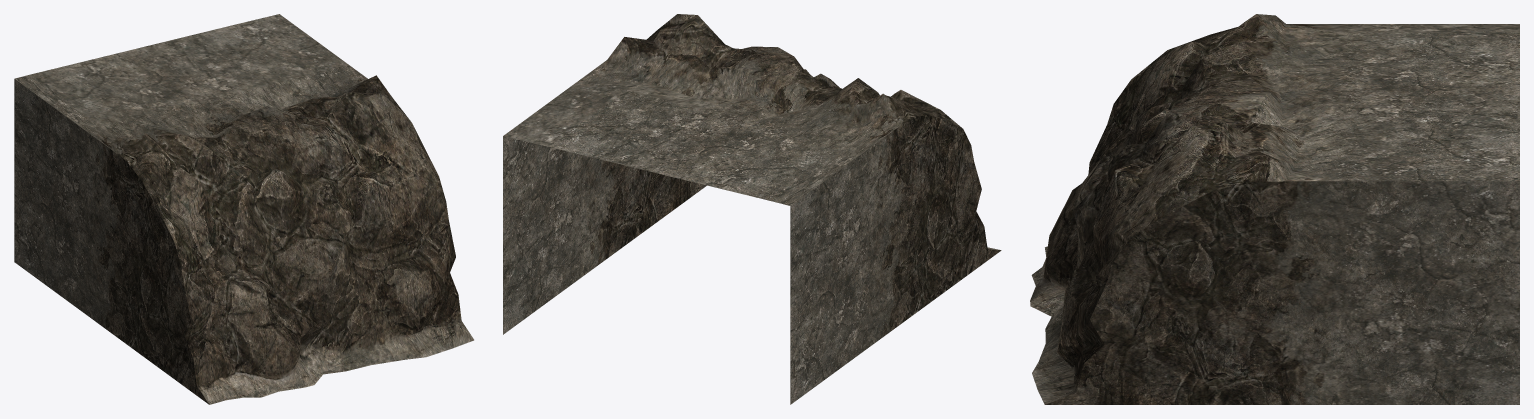
Rendered from SM_Env_Fire_Cliffs_CliffWall_05a.FBX.
3 views of the same model, side by side, from view 1: azimuth 30°, elevation 25°; view 2: azimuth 150°, elevation 25°; view 3: azimuth 270°, elevation 25° (orthographic). The views are drawn at different scales.
Visible parts, largest first — view 1: SM_Env_Fire_Cliffs_CliffWall_05a; view 2: SM_Env_Fire_Cliffs_CliffWall_05a; view 3: SM_Env_Fire_Cliffs_CliffWall_05a.
Part boxes in pixels (left/top/right/bottom): SM_Env_Fire_Cliffs_CliffWall_05a: left=14, top=14, right=473, bottom=404; SM_Env_Fire_Cliffs_CliffWall_05a: left=503, top=14, right=1001, bottom=404; SM_Env_Fire_Cliffs_CliffWall_05a: left=1030, top=14, right=1519, bottom=404.
Size of the model in its own units: 1020 by 1340 by 765.
